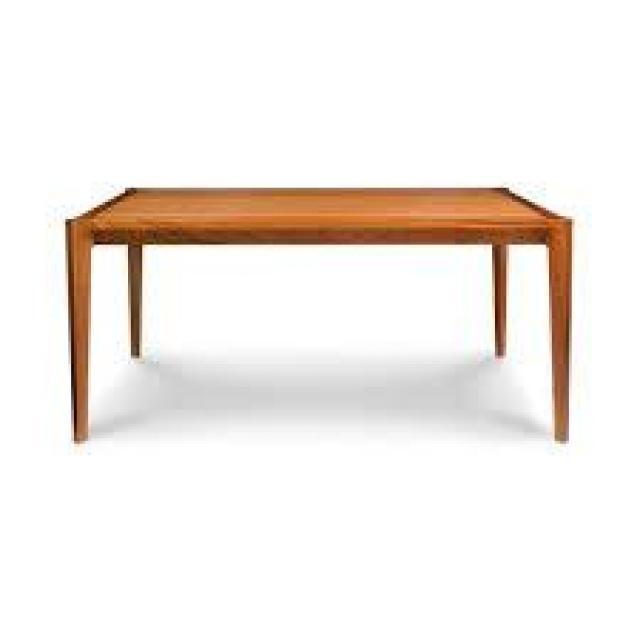mobile-phone: (63, 190, 576, 448)
